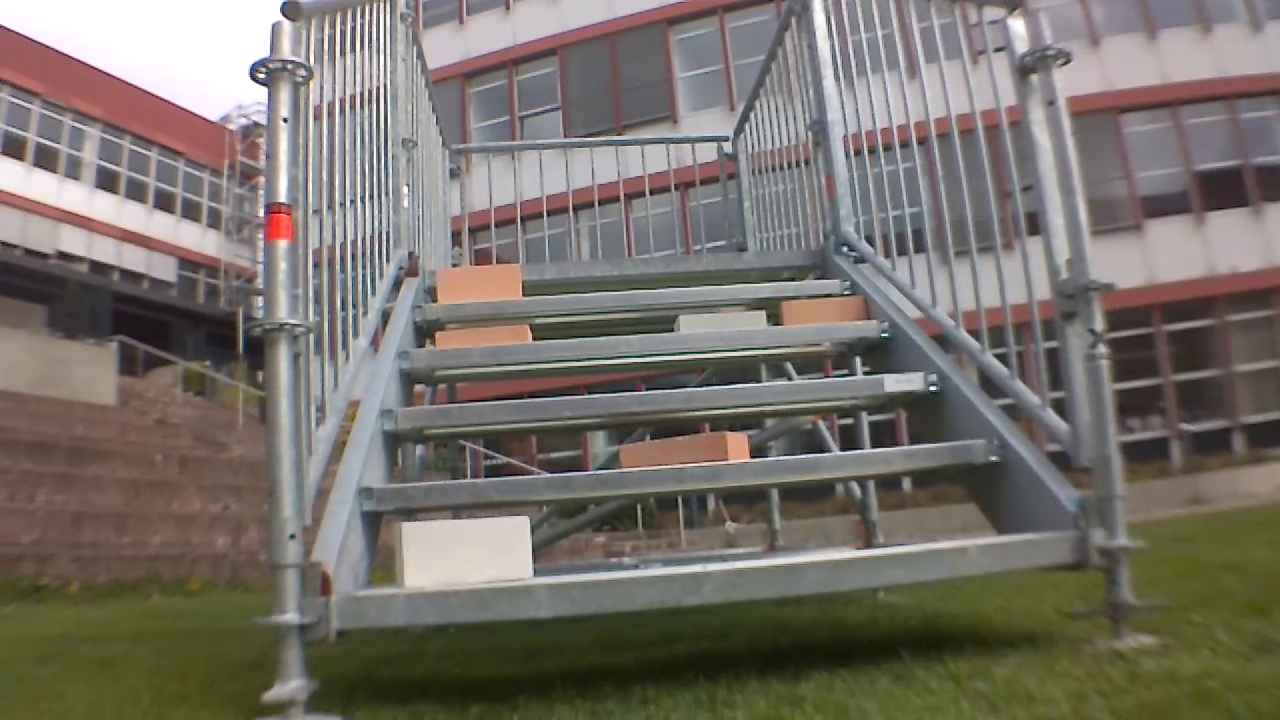brick: (393, 520, 536, 591), (610, 433, 757, 473), (432, 261, 521, 303), (773, 295, 866, 331), (429, 326, 528, 353), (672, 314, 764, 334)
edge: (334, 559, 1086, 646), (357, 446, 1008, 512), (382, 371, 946, 427), (399, 320, 891, 367), (413, 279, 855, 321), (439, 249, 823, 283)
stairs: (261, 0, 1133, 657)
steps: (329, 249, 1082, 641)
